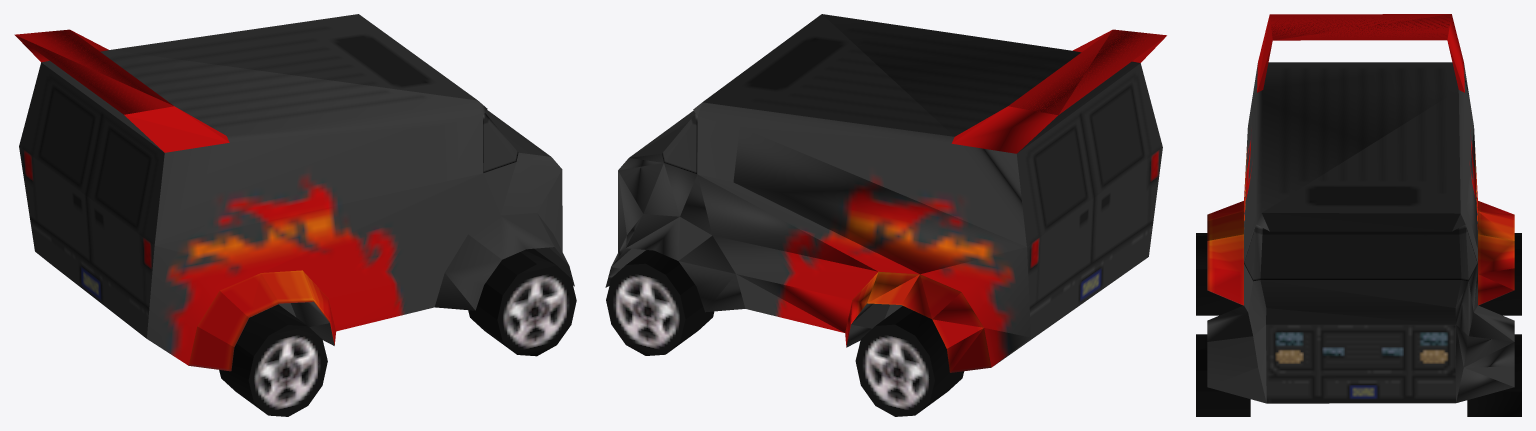
Rendered from slime1.ico.obj.
3 views of the same model, side by side, from view 1: azimuth 30°, elevation 25°; view 2: azimuth 150°, elevation 25°; view 3: azimuth 270°, elevation 25° (orthographic). The views are drawn at different scales.
Size of the model in its own units: 4.54 by 2.97 by 3.51.
Materials: 1 (1 with a texture image).
